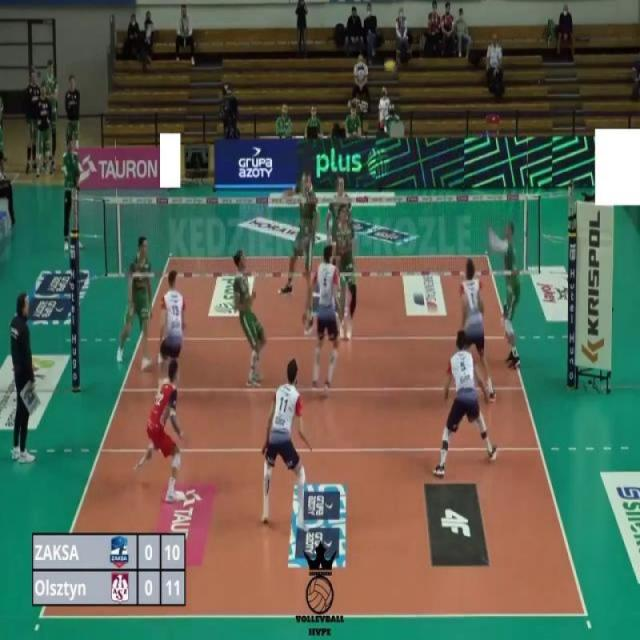volleyball: (383, 58, 397, 72)
